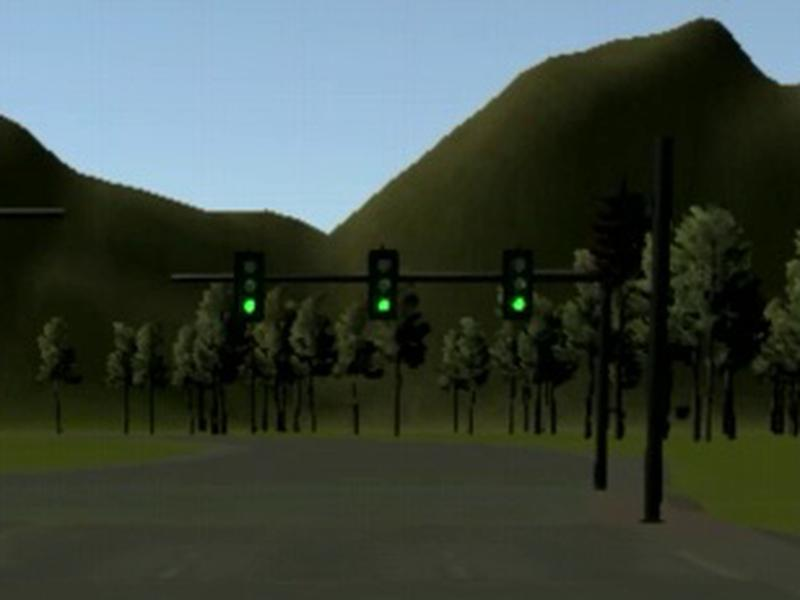Green: (366, 249, 399, 320), (234, 251, 265, 323), (502, 249, 533, 321)
